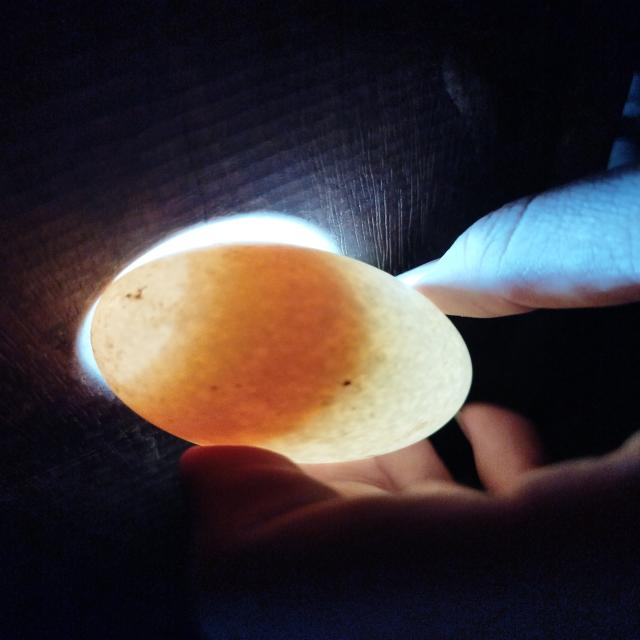Camara de Ar: (91, 252, 190, 384)
Gema Quebrada: (130, 242, 369, 447)
